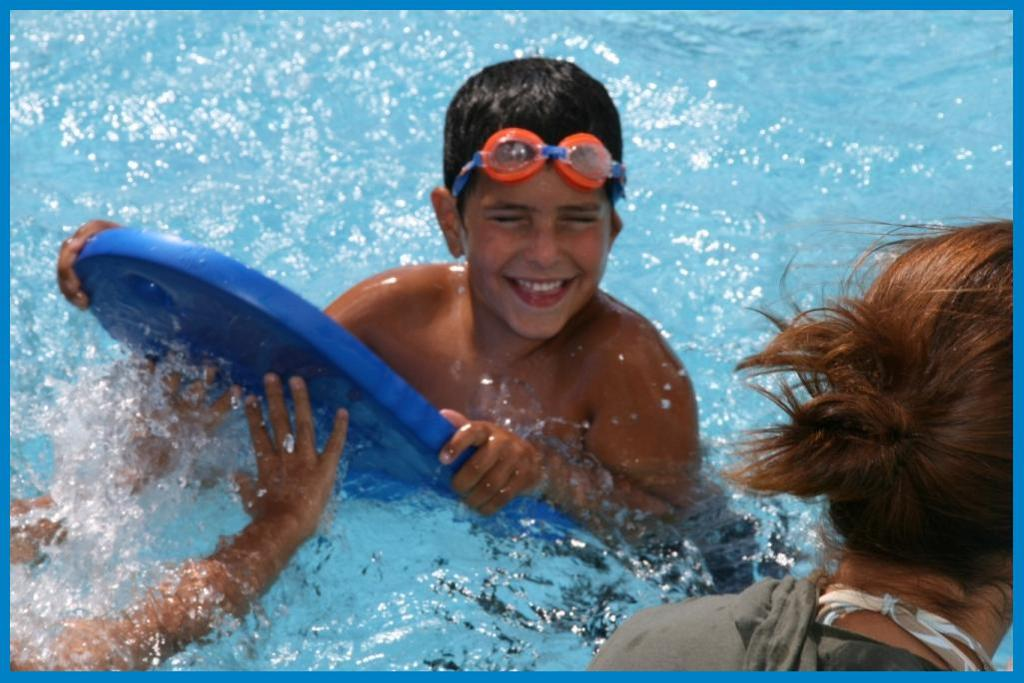face: (458, 122, 618, 342)
